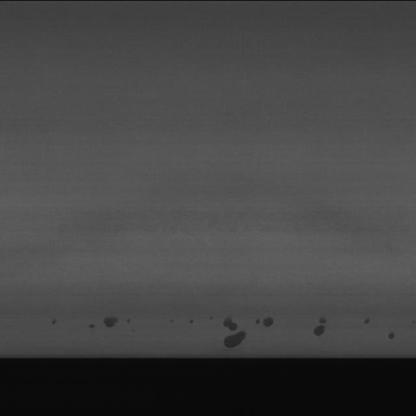oil_spot: (356, 319, 400, 342), (217, 316, 246, 348), (89, 312, 124, 332), (250, 312, 272, 331), (308, 320, 332, 336)
